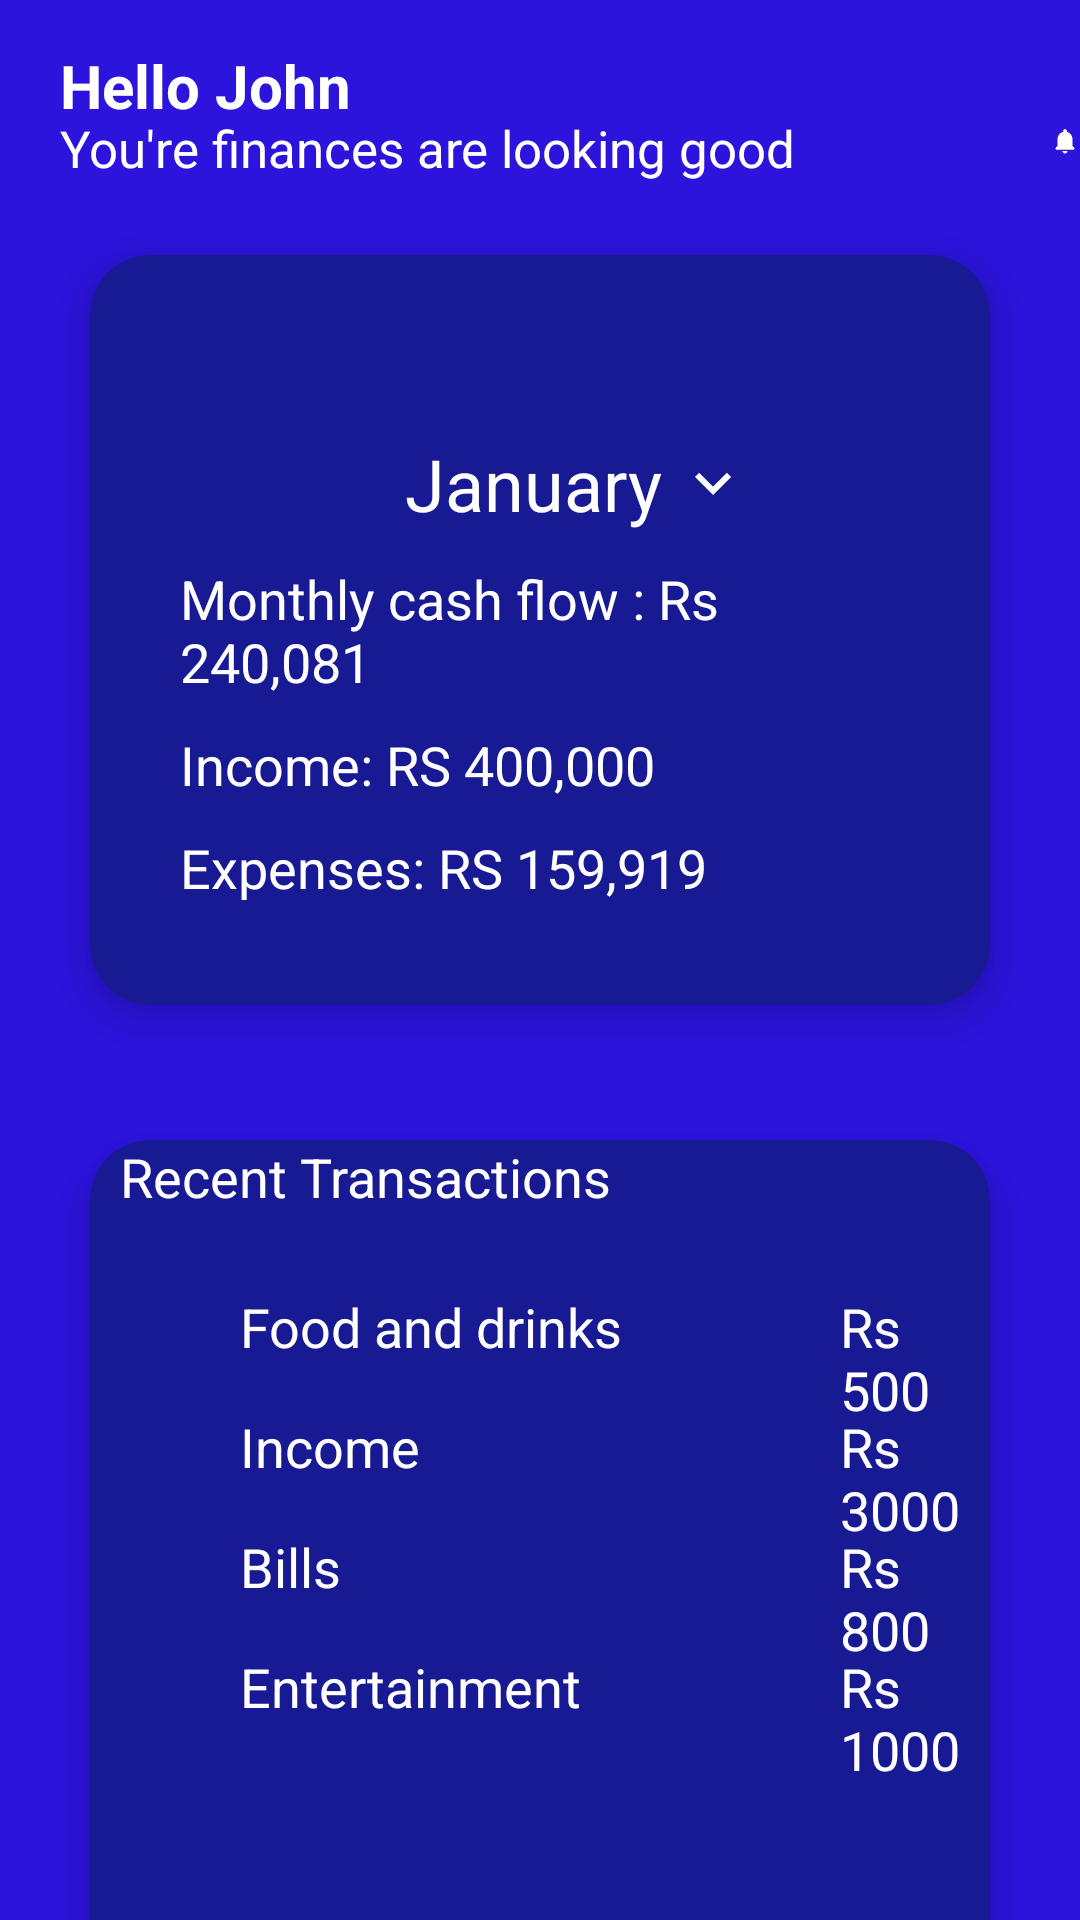

Where to tap for icons on this 1080px×1920px app screen, as [x,y]:
notifications: [1065,141]
